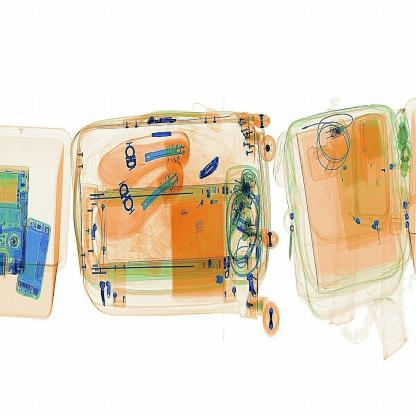knife: (190, 147, 227, 186)
